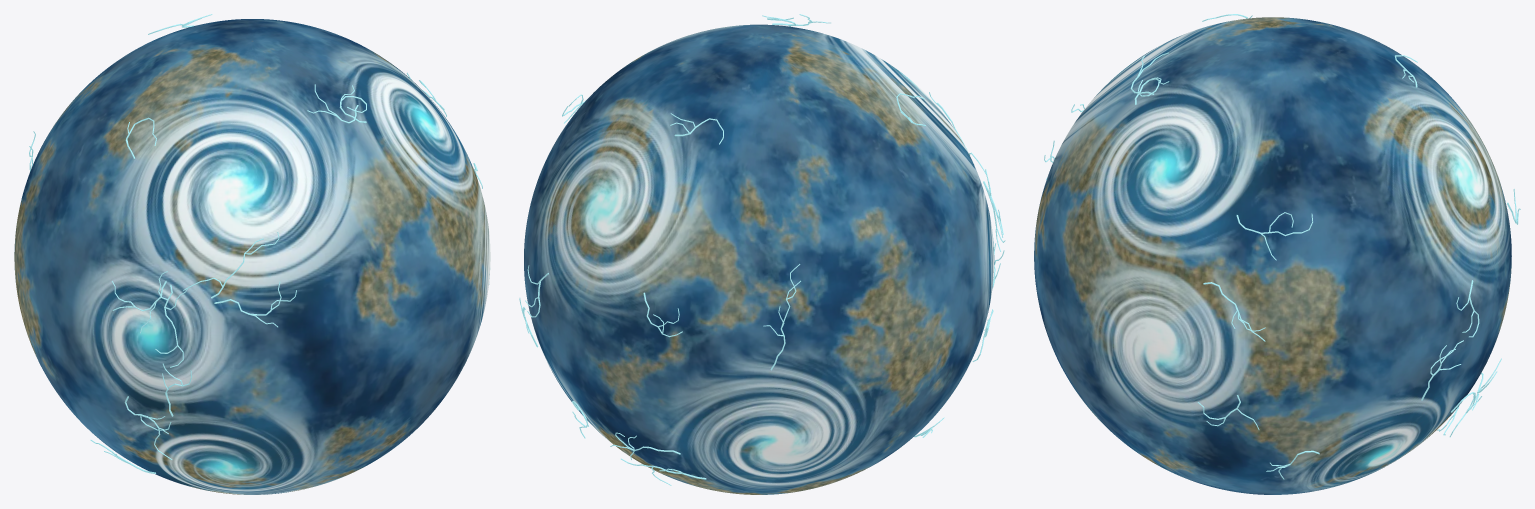
Rendered from Tempest.glb.
3 renders of one model, left to right at view 1: azimuth 30°, elevation 25°; view 2: azimuth 150°, elevation 25°; view 3: azimuth 270°, elevation 25°, orthographic.
Parts seen in each view (by area): view 1: Tempest, Tempest_Lightning; view 2: Tempest, Tempest_Lightning; view 3: Tempest, Tempest_Lightning.
Boxes of the visible parts, x1,y1,x2,y2 form: Tempest: [14, 19, 490, 494]; Tempest_Lightning: [29, 14, 489, 473]; Tempest: [524, 24, 994, 494]; Tempest_Lightning: [519, 14, 1005, 485]; Tempest: [1034, 17, 1511, 494]; Tempest_Lightning: [1044, 14, 1520, 479].
Size of the model in its own units: 2.04 by 2 by 2.04.
Materials: 2 (1 with a texture image).
